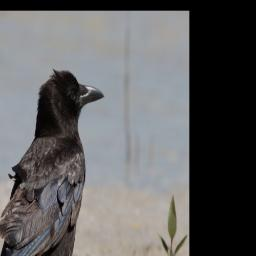Crow: (0, 68, 106, 256)
